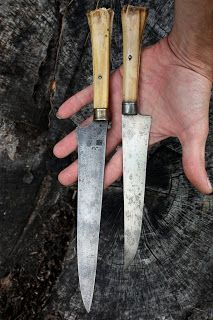knife: (73, 4, 112, 316), (116, 3, 155, 273)
